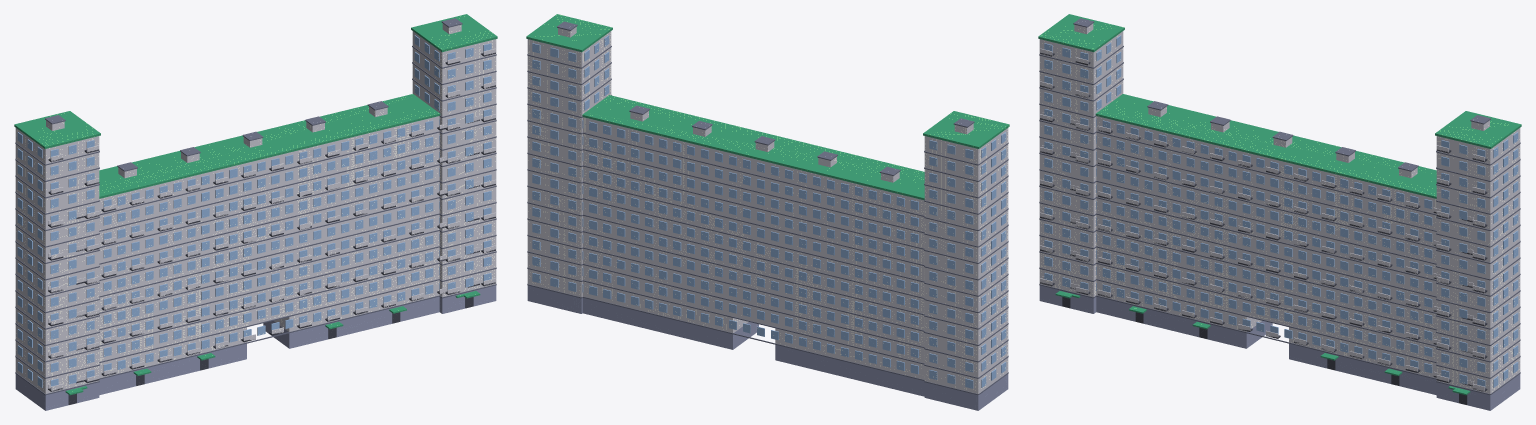
The model's file is panel-7x1-l3.glb.
The picture shows the model from 3 angles, left to right: view 1: azimuth 30°, elevation 25°; view 2: azimuth 150°, elevation 25°; view 3: azimuth 330°, elevation 25°; orthographic projection.
Visible parts, largest first — view 1: panel-7x1-l3; view 2: panel-7x1-l3; view 3: panel-7x1-l3.
Boxes of the visible parts, left/top/right/bottom form: panel-7x1-l3: left=14, top=14, right=497, bottom=410; panel-7x1-l3: left=526, top=14, right=1009, bottom=410; panel-7x1-l3: left=1038, top=14, right=1521, bottom=410.
Bounding box in the file's own units: 13.86 × 7.97 × 1.83.
1 material, 1 textured.
